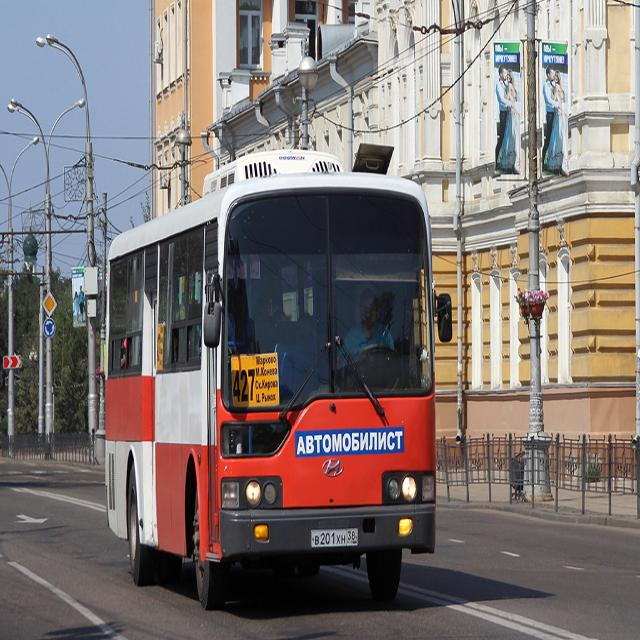number-of-bus: (233, 367, 257, 405)
